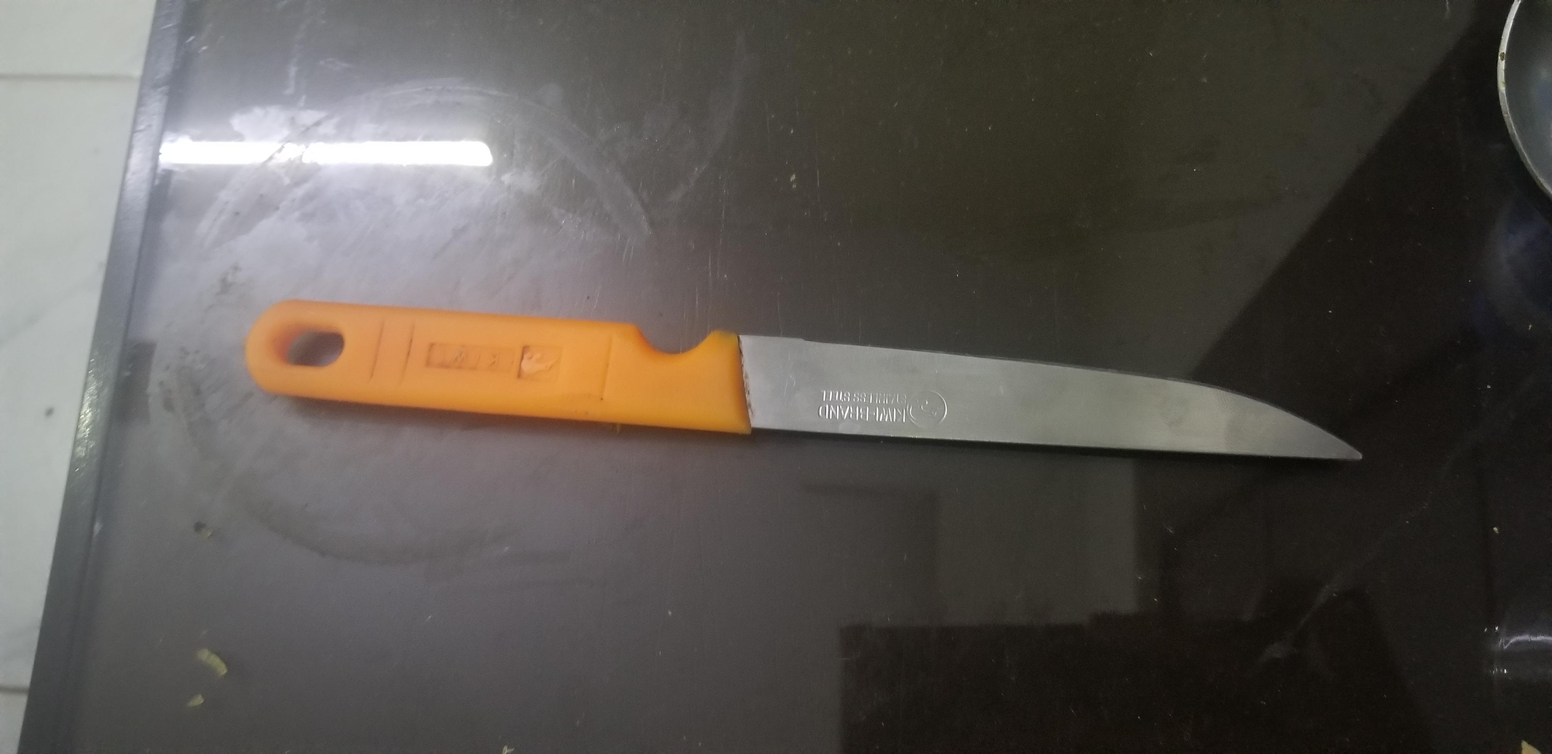knives: (565, 118, 1015, 688)
